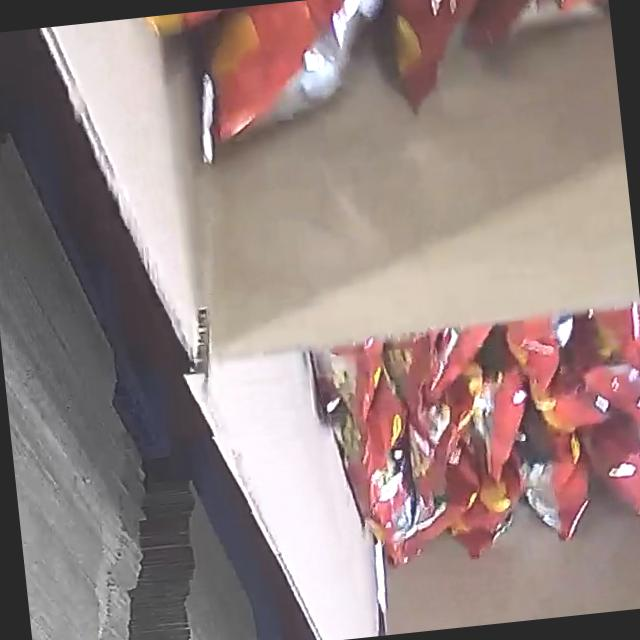masala: (320, 300, 640, 579), (119, 0, 619, 161)
